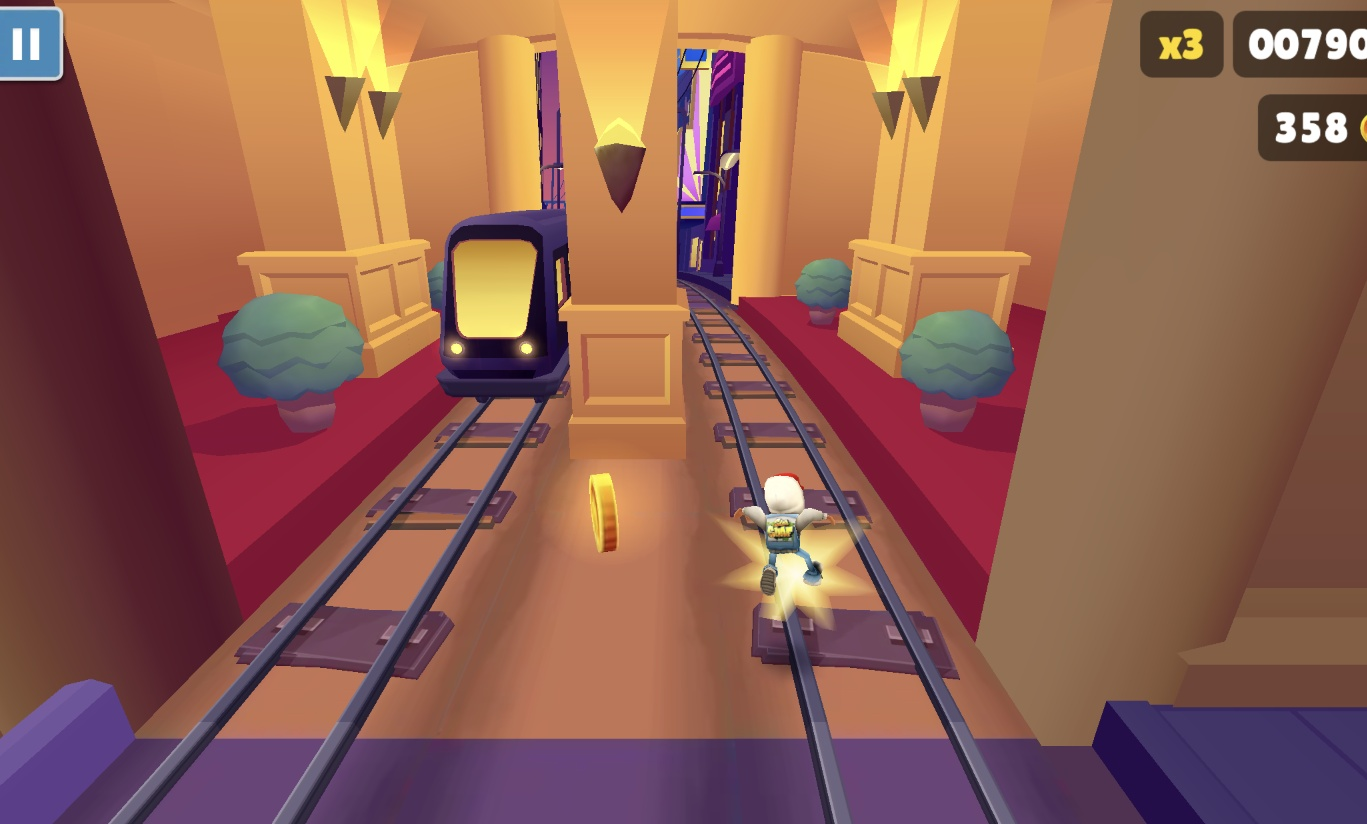pillar: (550, 0, 692, 461)
train: (433, 209, 572, 404)
